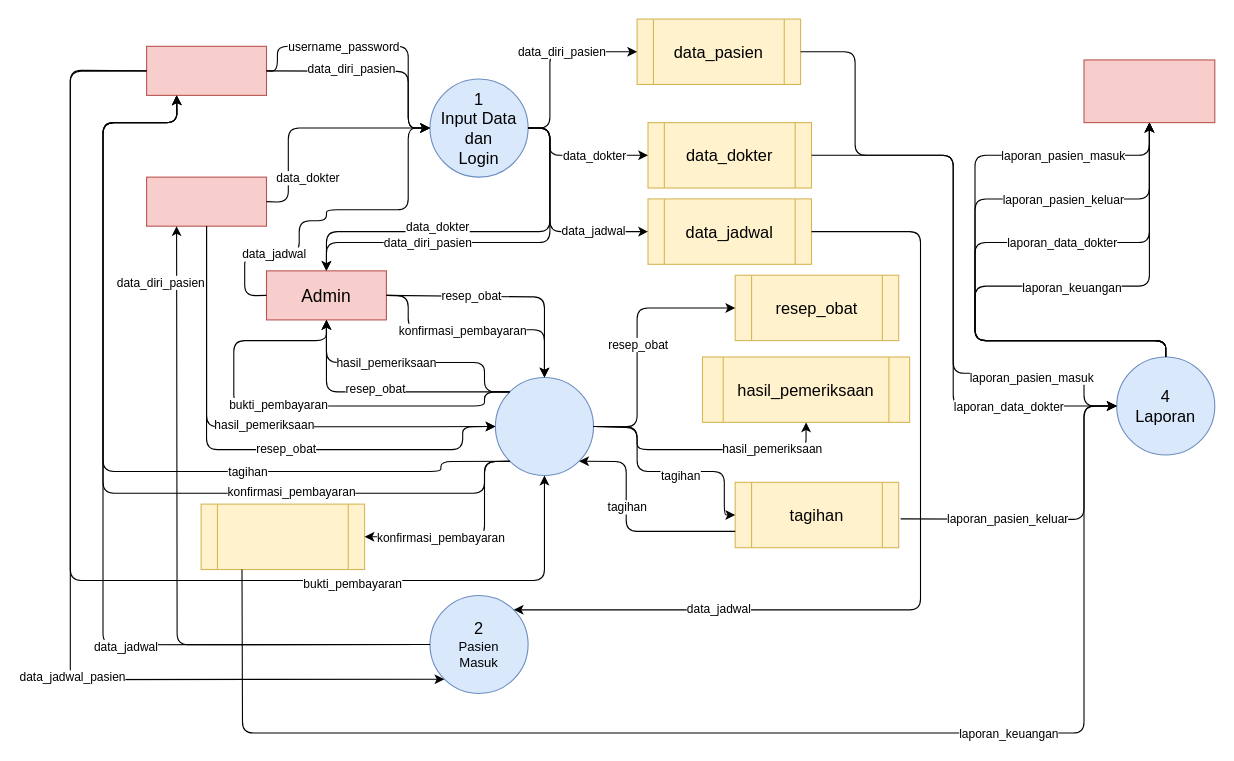
Some shapes in this 1234 by 761 pixel diagram are drawn without their labels. The centre of each missing label's shape, as x and y in pixels:
"3 Pasien Keluar" goes at [544,426].
"Dokter" goes at [206,201].
"Pasien" goes at [206,70].
"pembayaran" goes at [282,536].
"Pemilik Puskesmas" goes at [1149,91].
